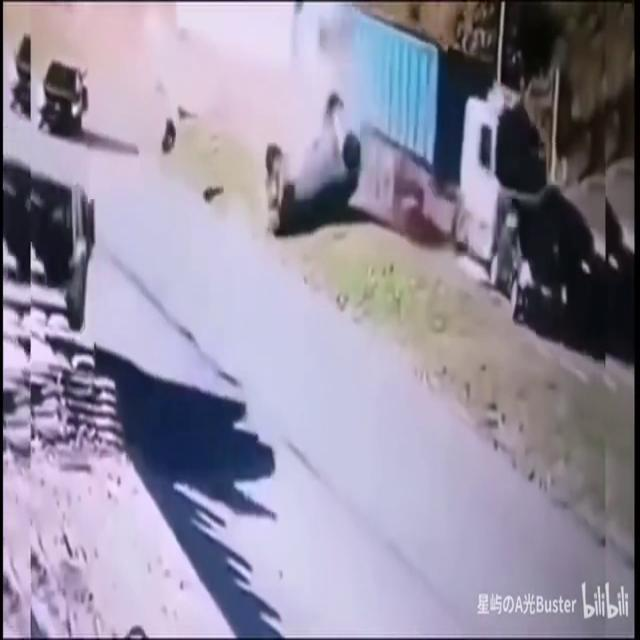single accident: (231, 86, 593, 324)
